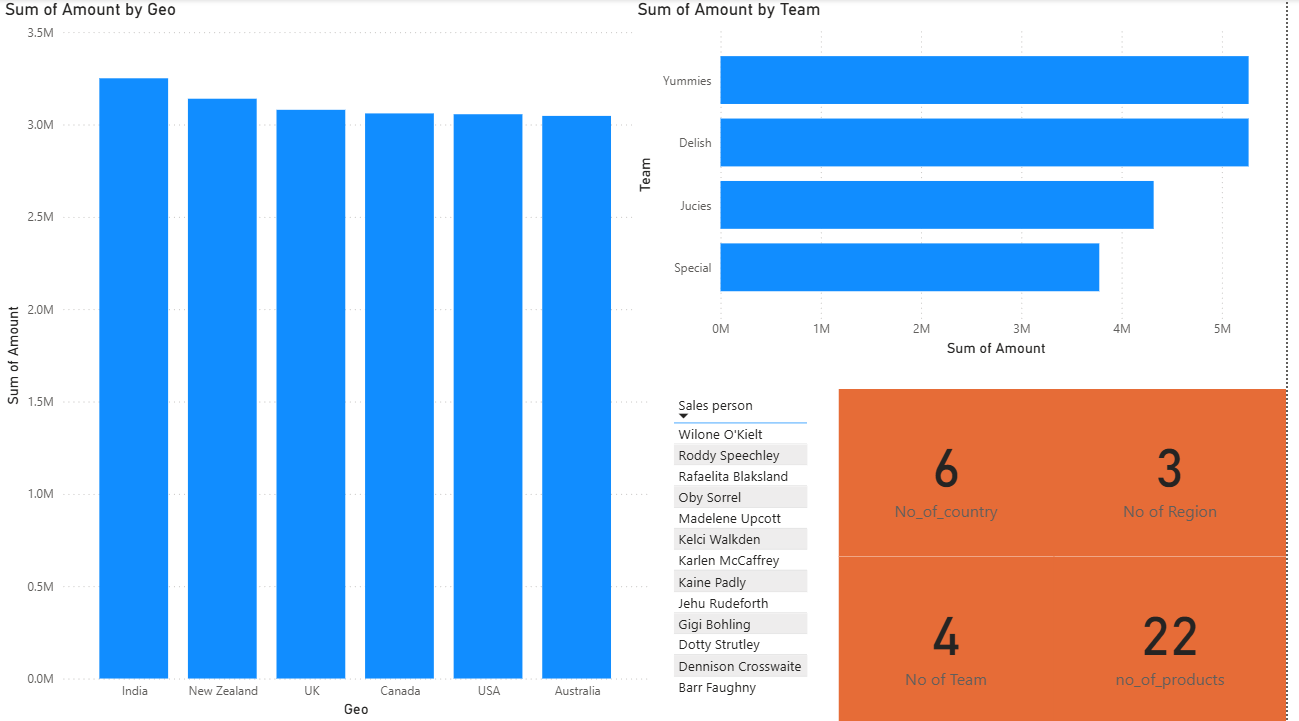

Layout of this report page (visuals, bound fields, positions):
{"tool":"powerbi","page":{"name":"Sales Overview","canvas":[1280,720],"ordinal":0},"visuals":[{"type":"columnChart","fields":{"Category":["locations.Geo"],"Y":["sales.Amount"]},"box":[0,0,650.6,720.3],"z":0},{"type":"barChart","fields":{"Y":["sales.Amount"],"Category":["people.Team"]},"box":[629.4,0,650.6,360.7],"z":1000},{"type":"tableEx","fields":{"Values":["people.Sales person"]},"box":[664.2,388.3,170.2,332.1],"z":2000},{"type":"card","fields":{"Values":["locations.Region"]},"box":[1048.4,388.3,231.9,166],"z":2003},{"type":"card","fields":{"Values":["locations.No_of_country"]},"box":[834.3,388.3,214.1,166],"z":2005},{"type":"card","fields":{"Values":["people.Team"]},"box":[834.3,554.4,214.1,166],"z":2006},{"type":"card","fields":{"Values":["products.no_of_products"]},"box":[1048.4,554.4,231.9,166],"z":2007}]}

Visuals, with their boxes in screenshot pixels (x1, y1, x2, y2), scaled from the page's 1280x720 canvas onto the 1299x721 screenshot:
columnChart - locations.Geo x sales.Amount: bbox=[0, 0, 660, 720]
barChart - sales.Amount x people.Team: bbox=[639, 0, 1298, 361]
tableEx - people.Sales person: bbox=[674, 389, 847, 720]
card - locations.Region: bbox=[1064, 389, 1298, 555]
card - locations.No_of_country: bbox=[847, 389, 1064, 555]
card - people.Team: bbox=[847, 555, 1064, 720]
card - products.no_of_products: bbox=[1064, 555, 1298, 720]
